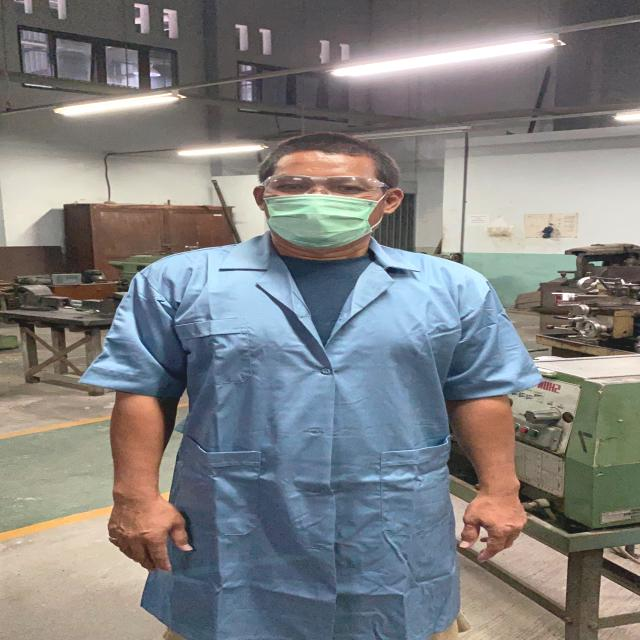face_mask: (253, 168, 391, 249)
glasses: (256, 173, 397, 199)
hand_noglove: (95, 497, 211, 575), (448, 491, 536, 567)
head_nohelmet: (252, 129, 402, 171)
person: (86, 130, 540, 640)
